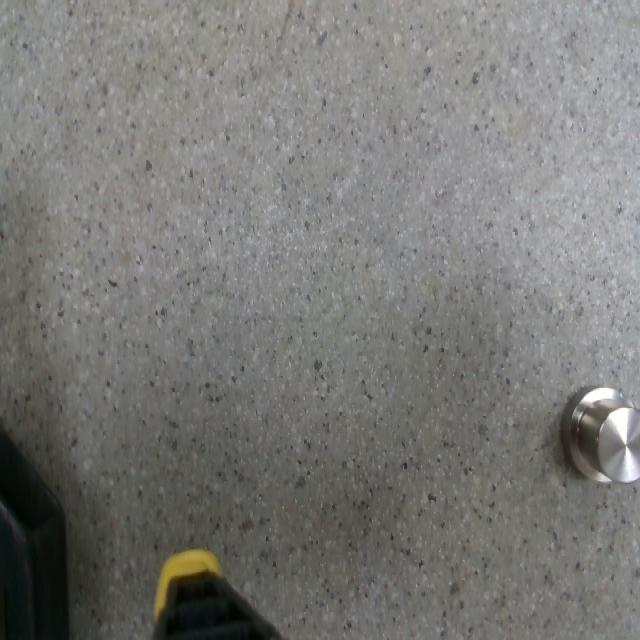sensor: (558, 384, 638, 484)
